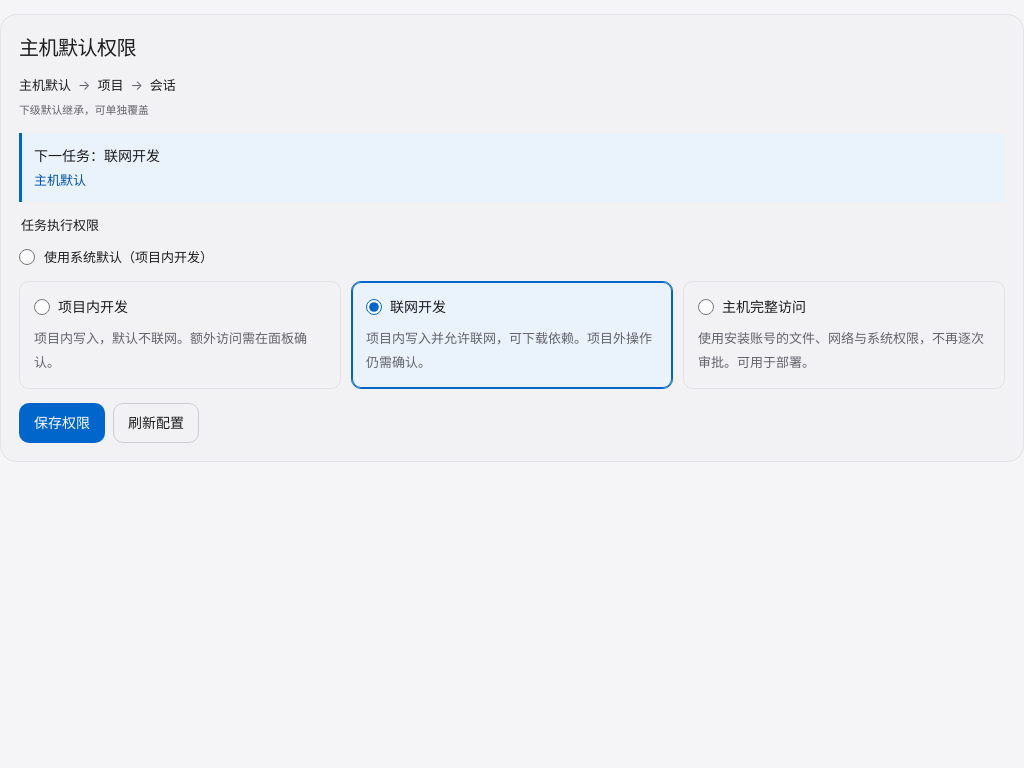
Test: host full access requires inline confirmation and sends revision
This screenshot has width=1024, height=768.
Step 1. Click the radio button labelled "主机完整访问 使用安装账号的文件、网络与系统权限，不再逐次审批。可用于部署。" → [706, 307], box [698,299,714,315]
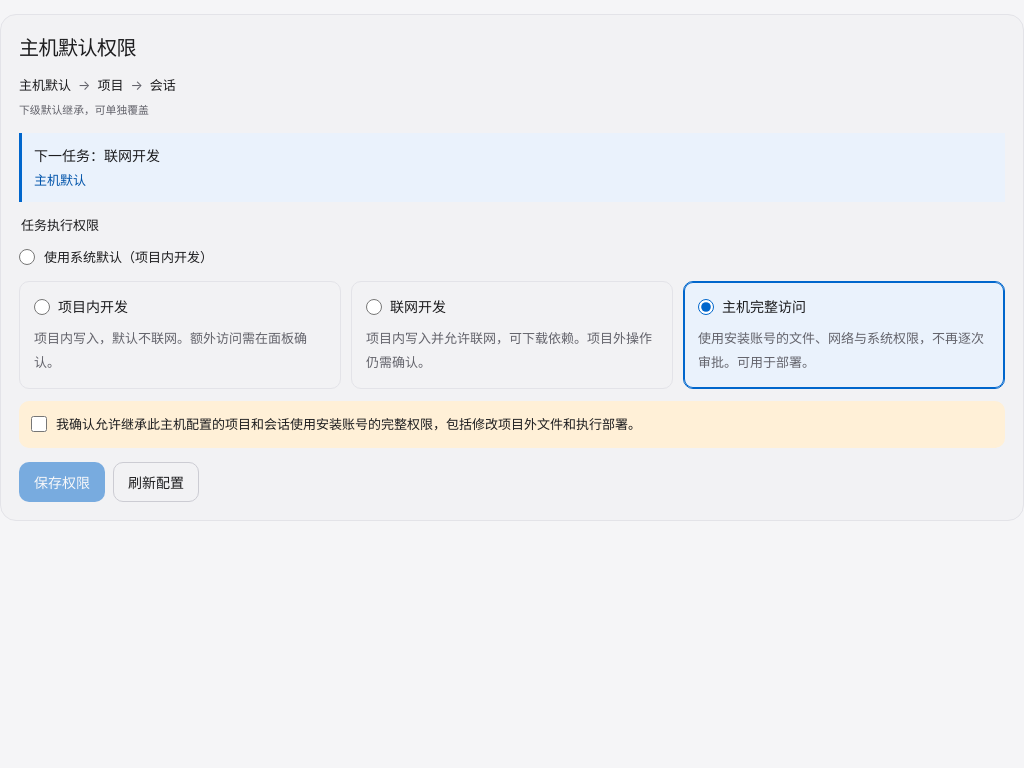
Expected: the button "保存权限" is disabled, [19,462,105,502]
Step 2. Click the checkbox → [39, 424], box [31,416,47,432]
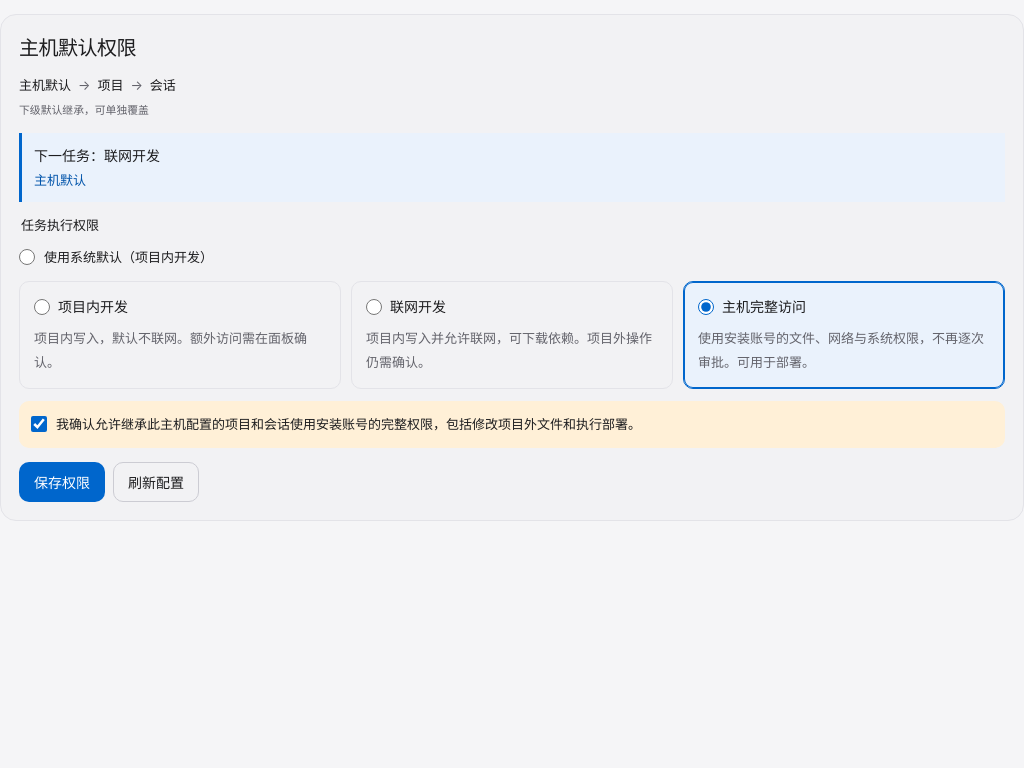
Step 3. Click the button "保存权限" → [62, 482], box [19,462,105,502]
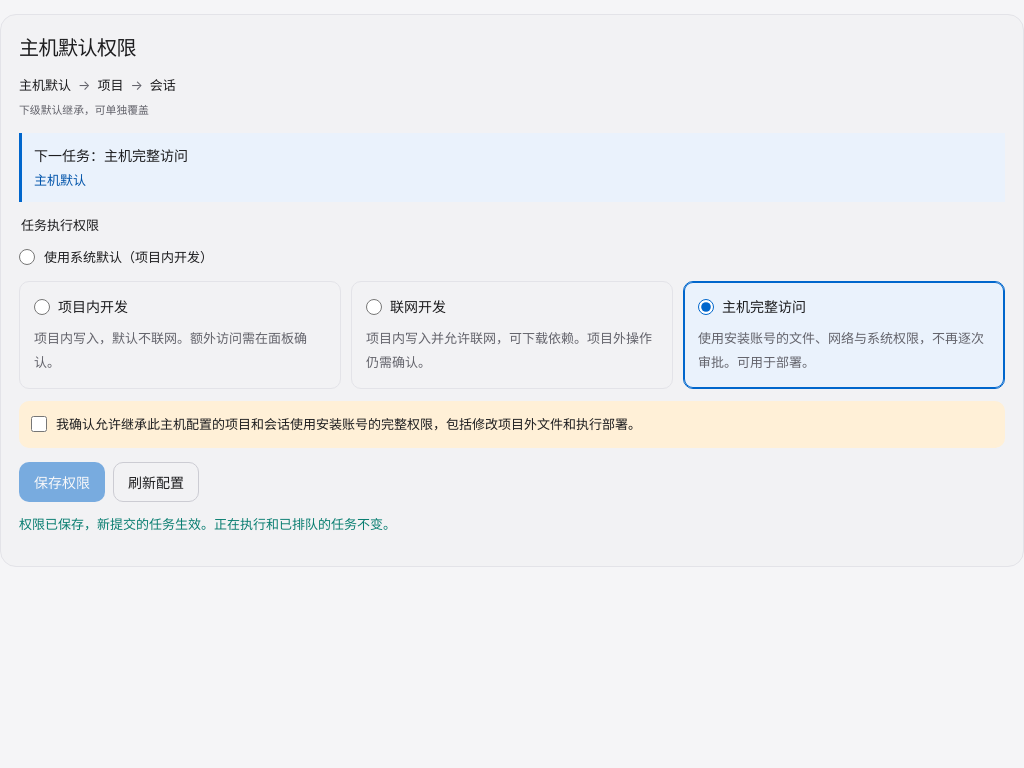
Expected: the message "权限已保存，新提交的任务生效。正在执行和已排队的任务不变。" is shown, [19,516,396,532]
